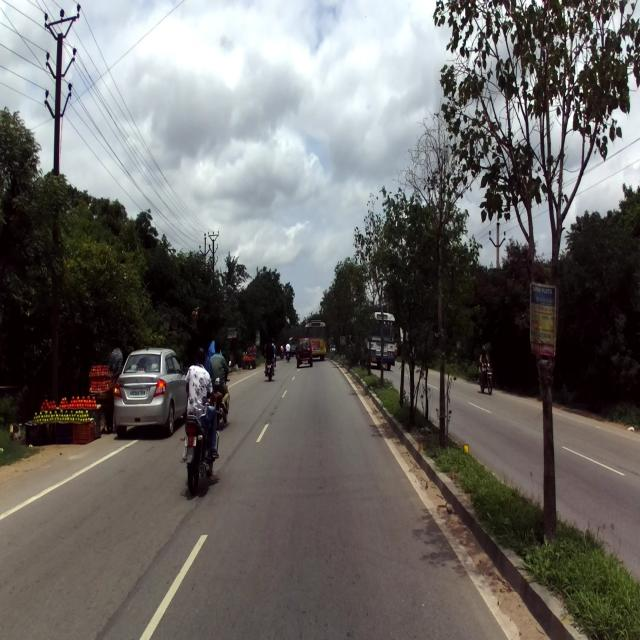car: (112, 345, 190, 438)
motorcycle: (178, 374, 222, 496)
